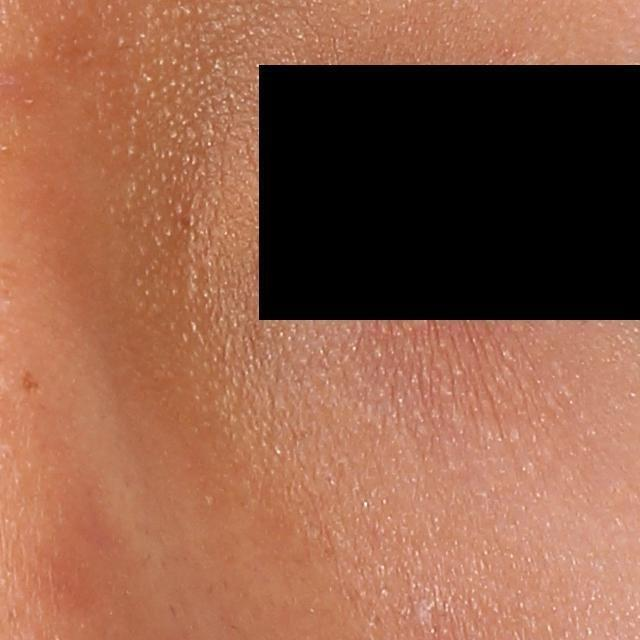nevus: (16, 364, 45, 402)
